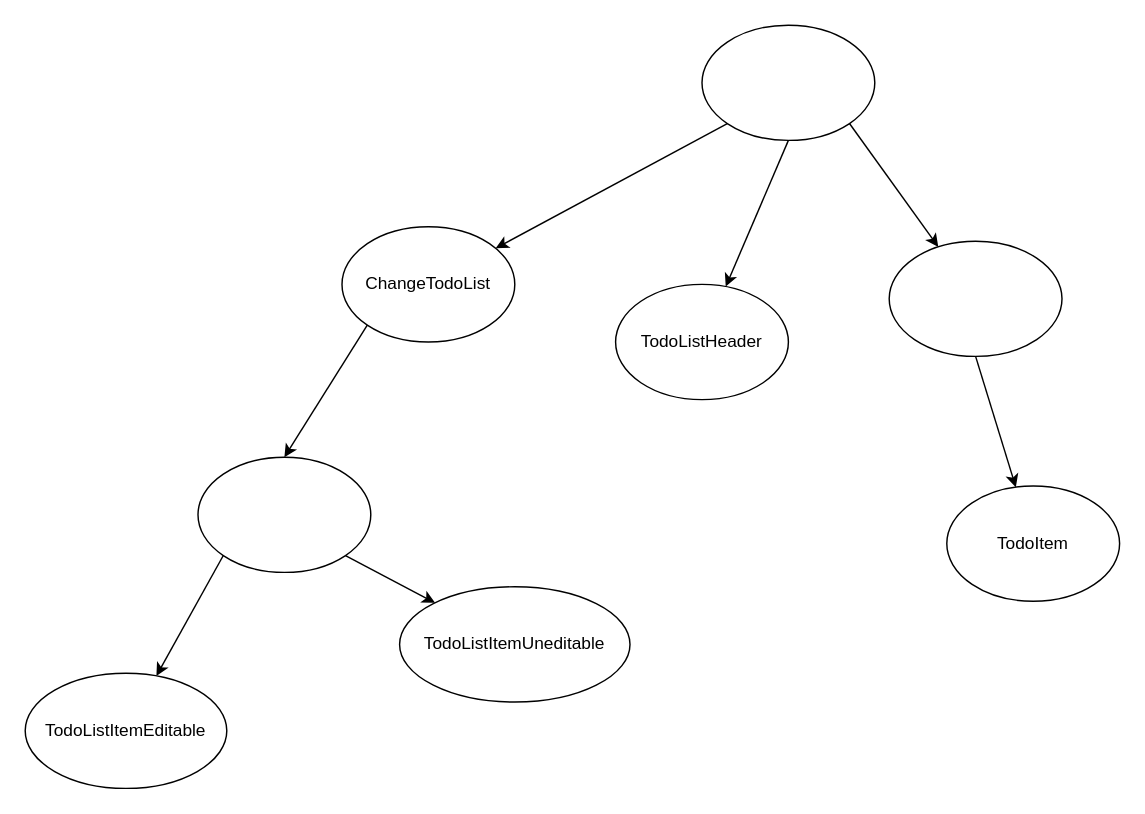
This 1145x814 diagram has some shape labels left out. The centre of each missing label's shape, as x and y in pixels:
"LoadedTodoList" goes at pixel 788 82.
"TodoListBody" goes at pixel 975 298.
"TodoListItem" goes at pixel 284 514.
